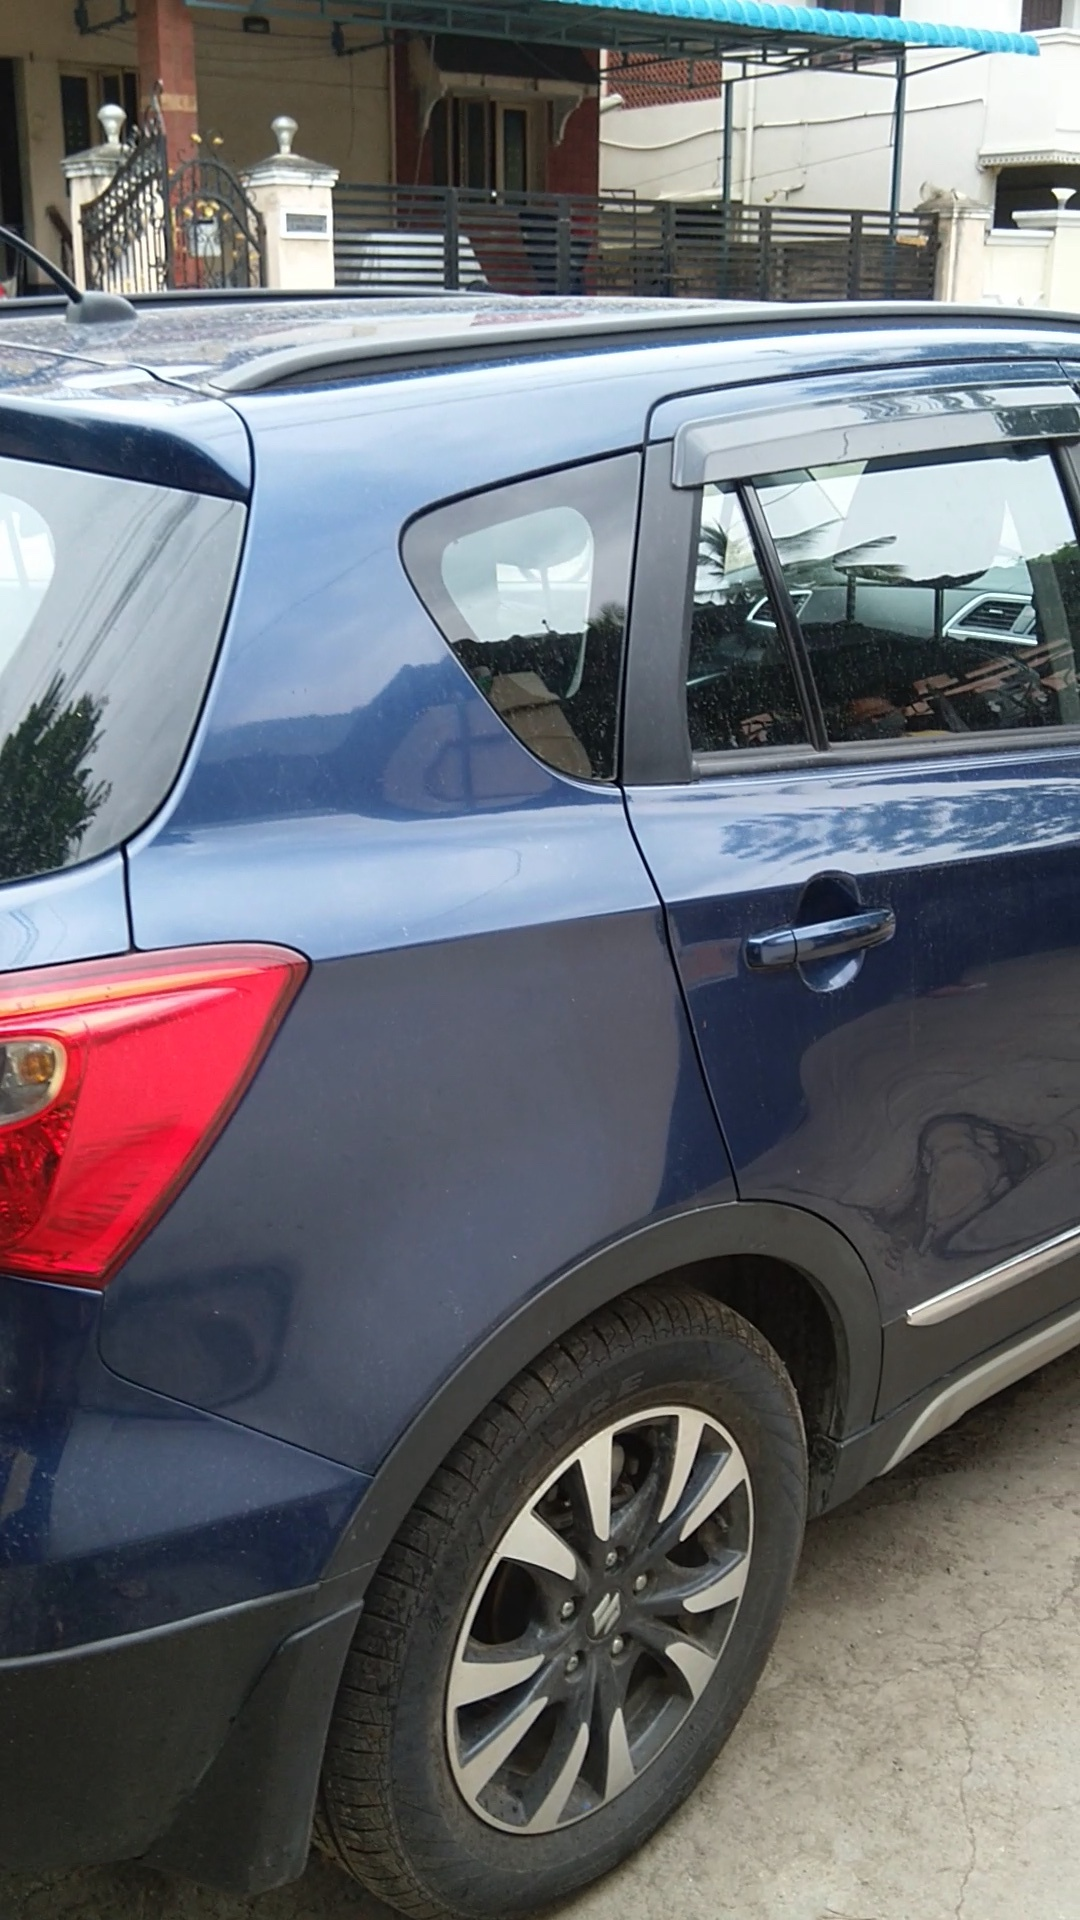alloy_wheel: (345, 1292, 819, 1920)
